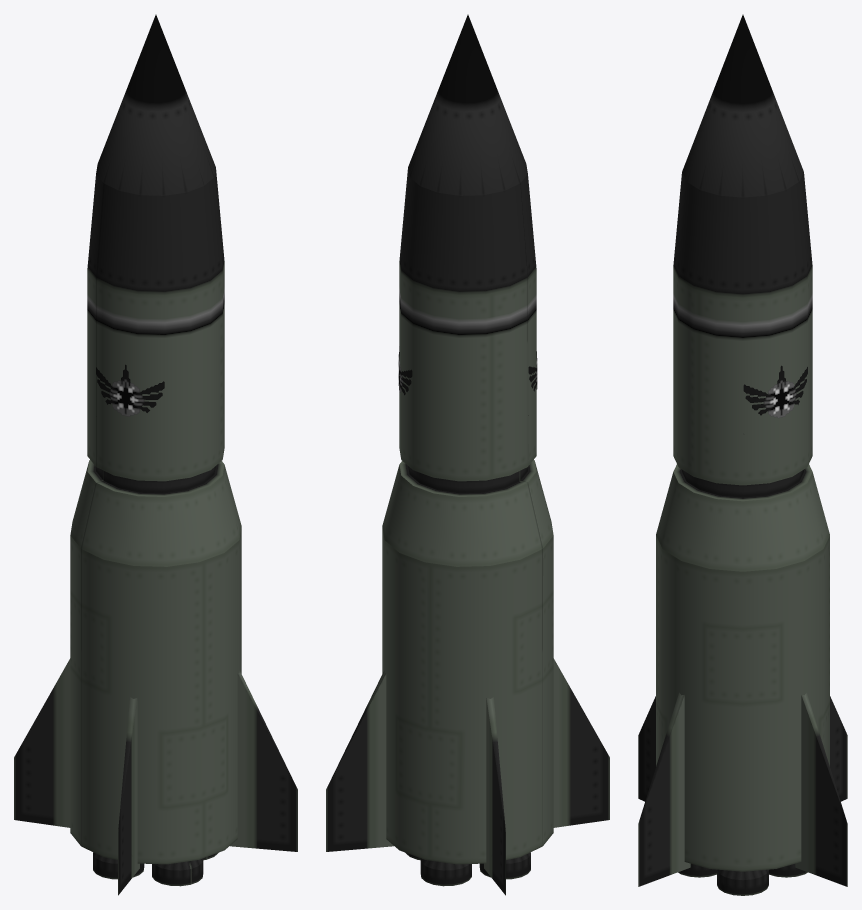
File: missile_rain.obj
3 views of the same model, side by side, from view 1: azimuth 30°, elevation 25°; view 2: azimuth 150°, elevation 25°; view 3: azimuth 270°, elevation 25° (orthographic).
Parts seen in each view (by area): view 1: missile_rain; view 2: missile_rain; view 3: missile_rain.
Part boxes in pixels (x1=…): missile_rain: x1=14, y1=14, x2=297, y2=895; missile_rain: x1=326, y1=14, x2=609, y2=895; missile_rain: x1=638, y1=14, x2=847, y2=895.
Size of the model in its own units: 3.01 by 13.5 by 3.01.
